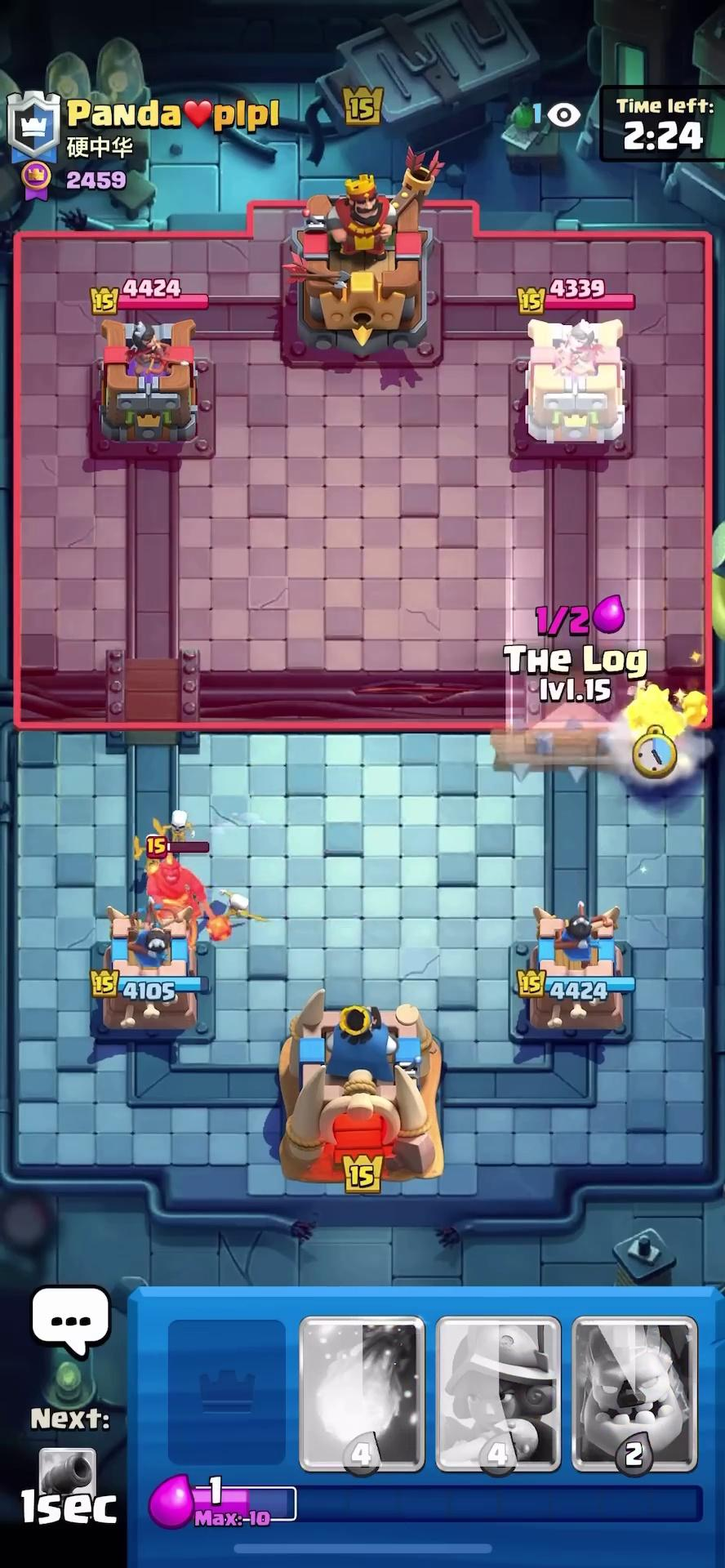hog_rider: (610, 668, 706, 757)
skeletons: (125, 808, 210, 874), (214, 884, 269, 941)
